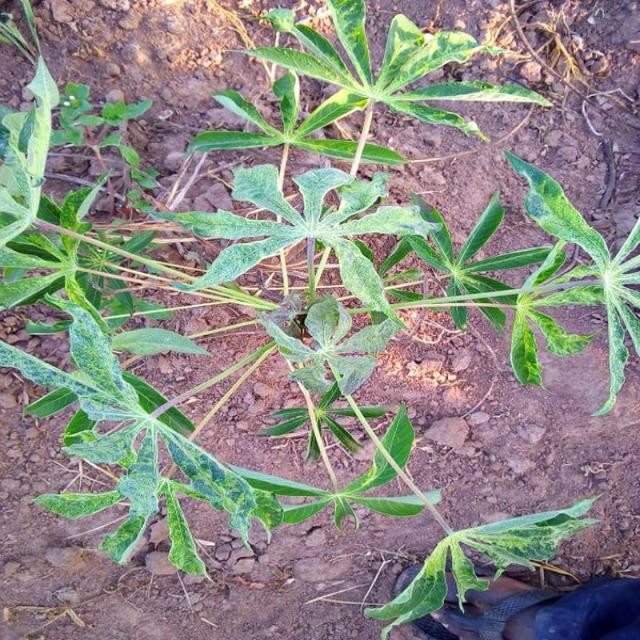cassava leaf: (2, 1, 634, 633), (3, 291, 282, 580), (363, 491, 604, 638)
